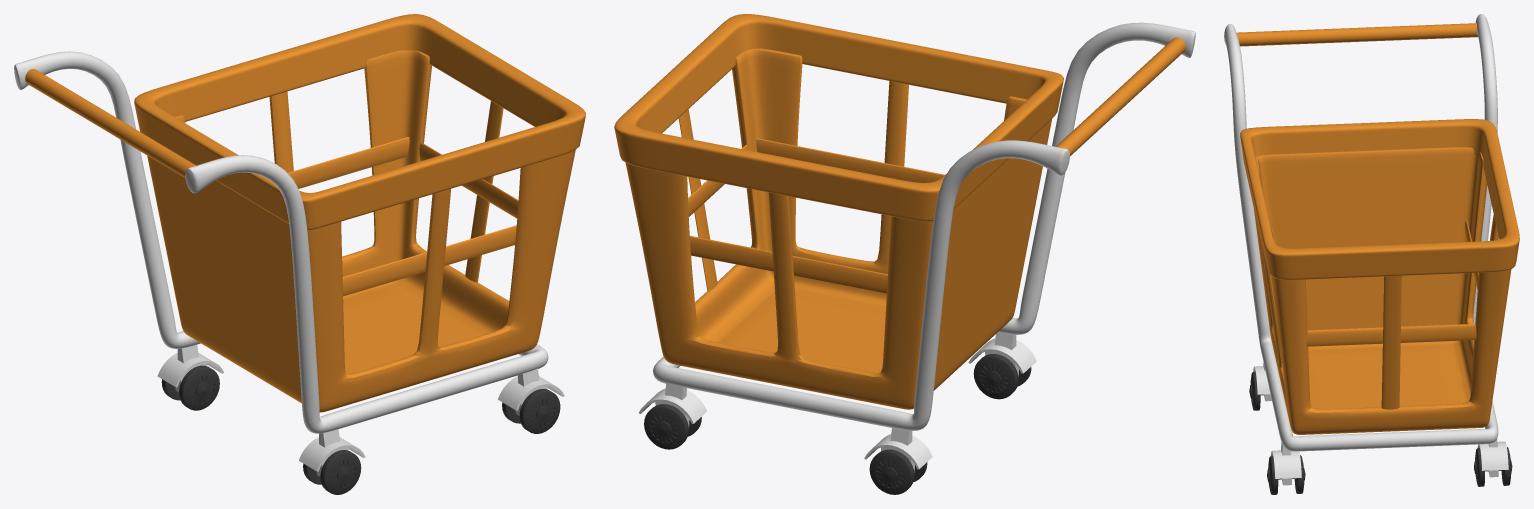
The model's file is mini-cart.fbx.
3 renders of one model, left to right at view 1: azimuth 30°, elevation 25°; view 2: azimuth 150°, elevation 25°; view 3: azimuth 270°, elevation 25°, orthographic. The views are drawn at different scales.
Parts seen in each view (by area): view 1: Cube, Cube.001, Cube.002, Cylinder.003, Cylinder.004, Cylinder; view 2: Cube, Cube.001, Cube.002, Cylinder.003, Cylinder.004, Cylinder; view 3: Cube, Cube.001, Cube.002, Cylinder, Cylinder.004, Cylinder.003.
Boxes of the visible parts, bbox=[...] form: Cube: bbox=[147, 50, 575, 412]; Cube.001: bbox=[134, 14, 585, 230]; Cube.002: bbox=[14, 51, 548, 433]; Cylinder.003: bbox=[161, 365, 560, 494]; Cylinder.004: bbox=[157, 344, 564, 476]; Cylinder: bbox=[25, 69, 196, 178]; Cube: bbox=[625, 48, 1051, 409]; Cube.001: bbox=[614, 14, 1063, 221]; Cube.002: bbox=[653, 22, 1195, 430]; Cylinder.003: bbox=[644, 354, 1031, 494]; Cylinder.004: bbox=[639, 332, 1036, 472]; Cylinder: bbox=[1055, 37, 1185, 155]; Cube: bbox=[1253, 147, 1511, 434]; Cube.001: bbox=[1240, 119, 1519, 279]; Cube.002: bbox=[1224, 14, 1498, 451]; Cylinder: bbox=[1236, 23, 1477, 46]; Cylinder.004: bbox=[1253, 363, 1508, 485]; Cylinder.003: bbox=[1249, 372, 1512, 494].
Size of the model in its own units: 381 by 305 by 258.
